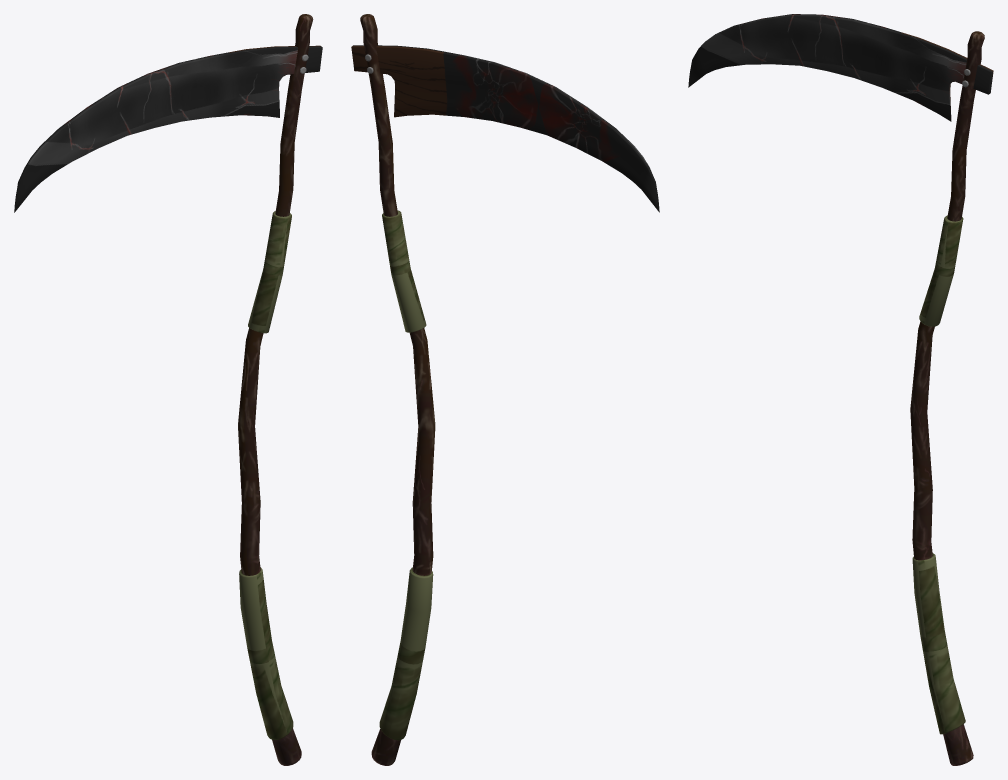
The model's file is orak.fbx.
3 views of the same model, side by side, from view 1: azimuth 30°, elevation 25°; view 2: azimuth 150°, elevation 25°; view 3: azimuth 330°, elevation 25° (orthographic).
Visible parts, largest first — view 1: orak; view 2: orak; view 3: orak.
Part boxes in pixels (x1,y1,x2,y2): orak: (14, 14, 322, 765); orak: (351, 14, 659, 765); orak: (688, 14, 993, 765).
Bounding box in the file's own units: 149 × 344 × 12.37.
Materials: 1 (1 with a texture image).
